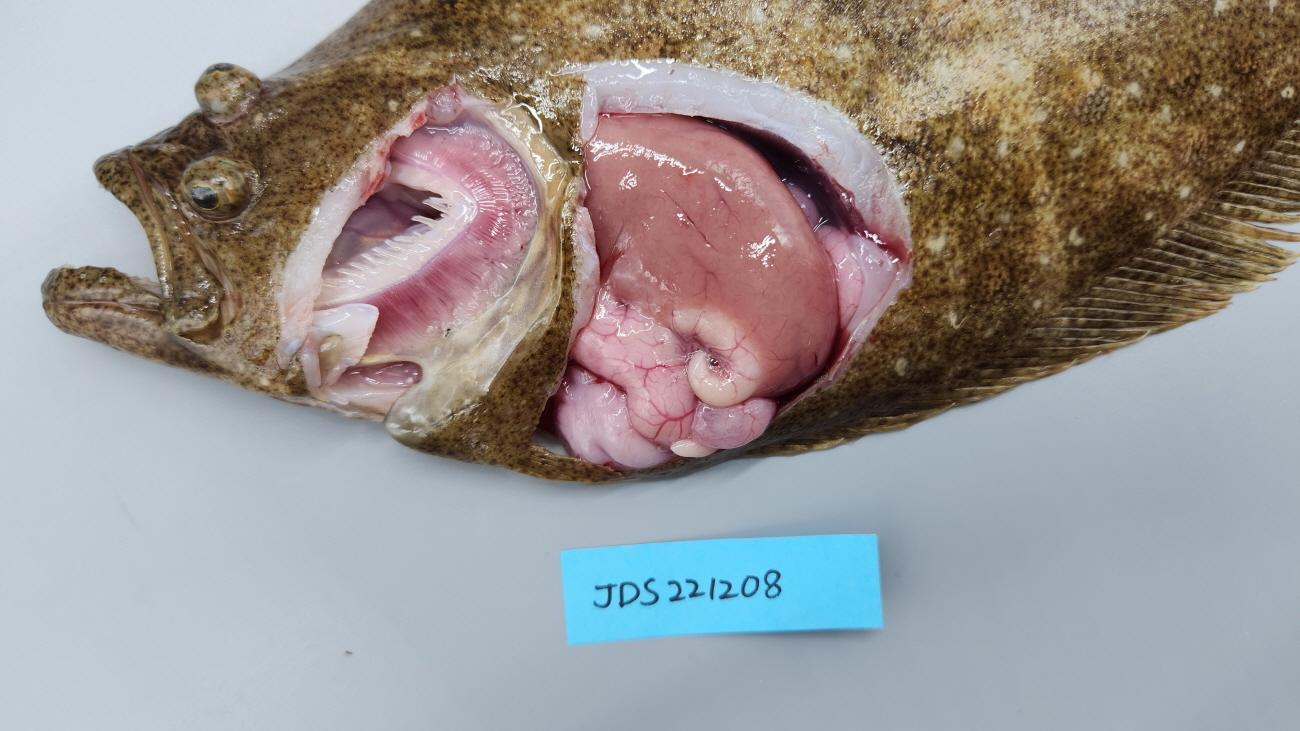SPGIN: (428, 124, 537, 347)
SPGIP: (501, 210, 537, 257)
